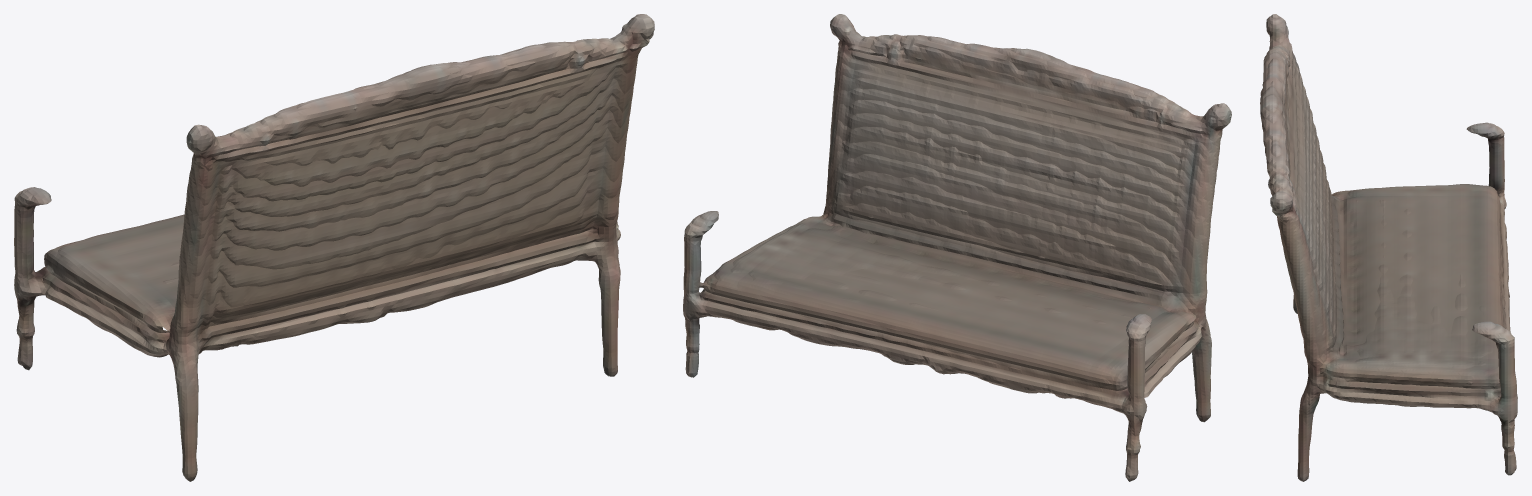
Rendered from generated_model.glb.
3 renders of one model, left to right at view 1: azimuth 30°, elevation 25°; view 2: azimuth 150°, elevation 25°; view 3: azimuth 270°, elevation 25°, orthographic. The views are drawn at different scales.
Visible parts, largest first — view 1: world; view 2: world; view 3: world.
Part boxes in pixels (box(x1,y1,x2,y2)): world: box(14, 14, 654, 481); world: box(683, 14, 1231, 481); world: box(1260, 14, 1517, 481).
Bounding box in the file's own units: 1.02 × 0.6738 × 0.5237.
